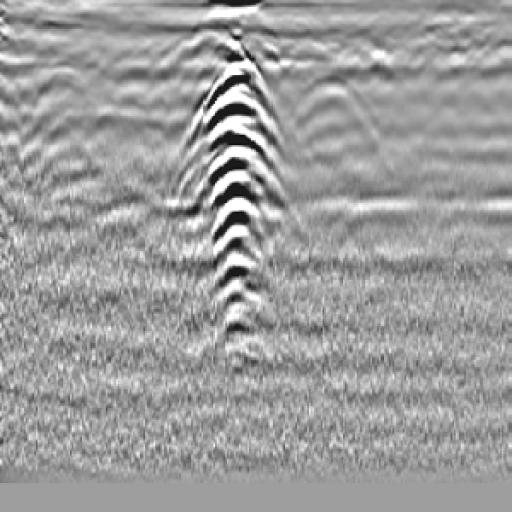metalic: (163, 35, 302, 345)
nonmetalic: (282, 65, 400, 176)
